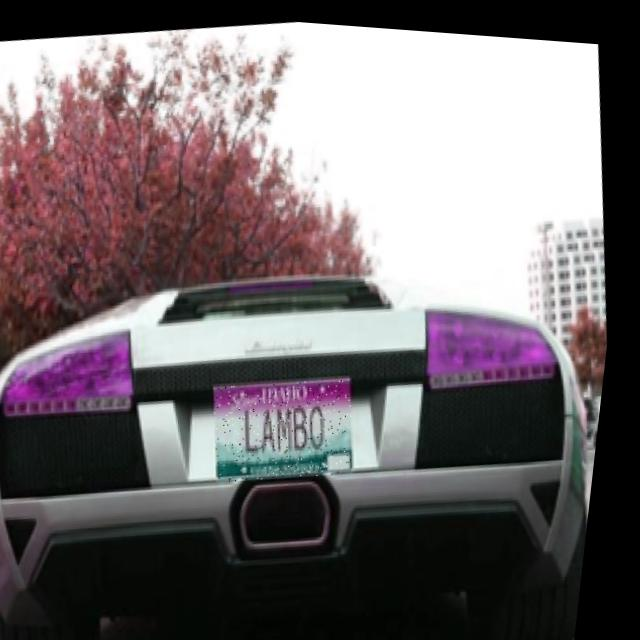license_plate: (214, 364, 371, 486)
